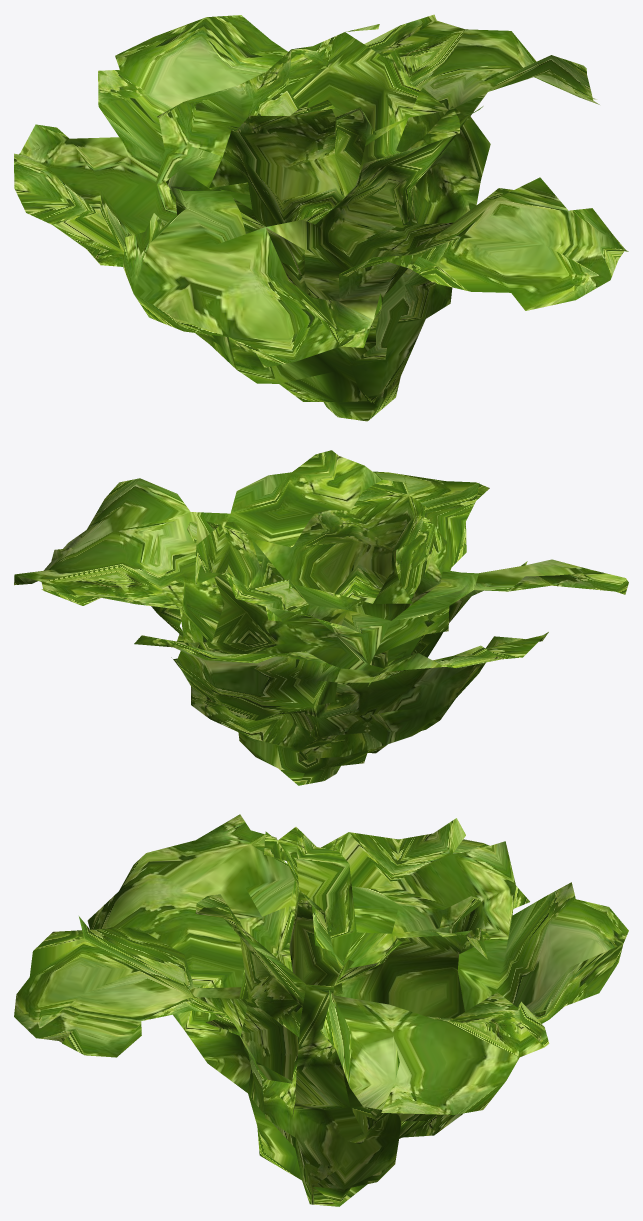
File: lingcao_qingxin_mature.obj
3 renders of one model, top to bottom at view 1: azimuth 30°, elevation 25°; view 2: azimuth 150°, elevation 25°; view 3: azimuth 270°, elevation 25°, orthographic. The views are drawn at different scales.
Parts seen in each view (by area): view 1: lingcao_qingxin_mature; view 2: lingcao_qingxin_mature; view 3: lingcao_qingxin_mature.
Boxes of the visible parts, <box> form: lingcao_qingxin_mature: <box>14,14,628,421</box>; lingcao_qingxin_mature: <box>14,450,628,785</box>; lingcao_qingxin_mature: <box>14,814,628,1206</box>.
Bounding box in the file's own units: 0.4427 × 0.2697 × 0.4463.
Materials: 1 (1 with a texture image).
